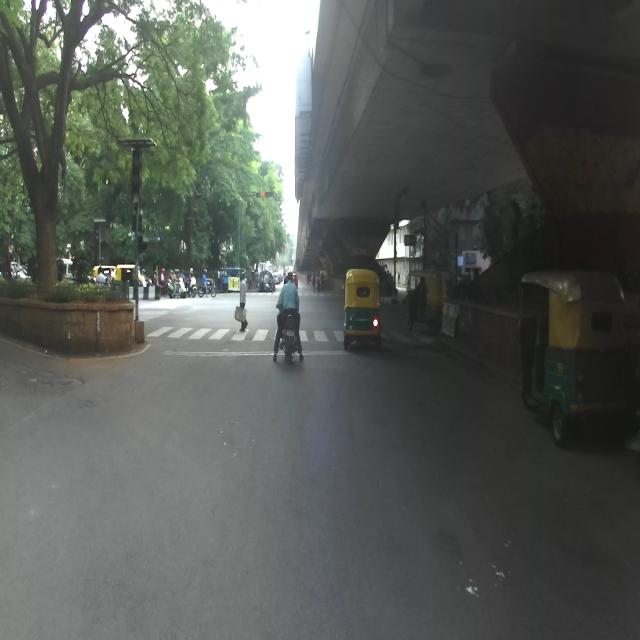auto ahead at: (516, 262, 635, 454), (344, 269, 381, 351)
zebra crossing ahead at: (153, 316, 271, 353)
